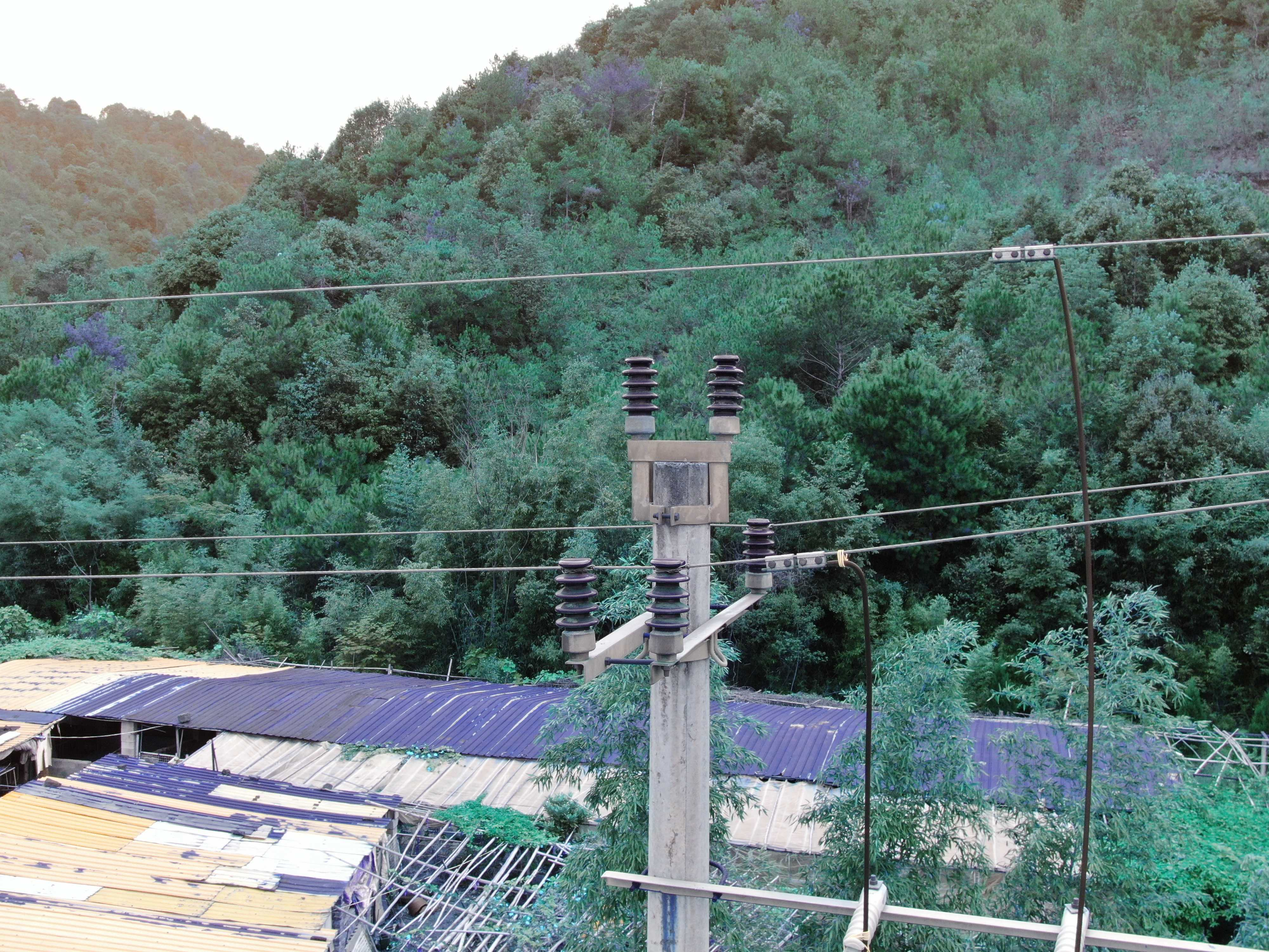severe_soiling_no_discharge_whole: (640, 555, 695, 663), (553, 555, 603, 660)
